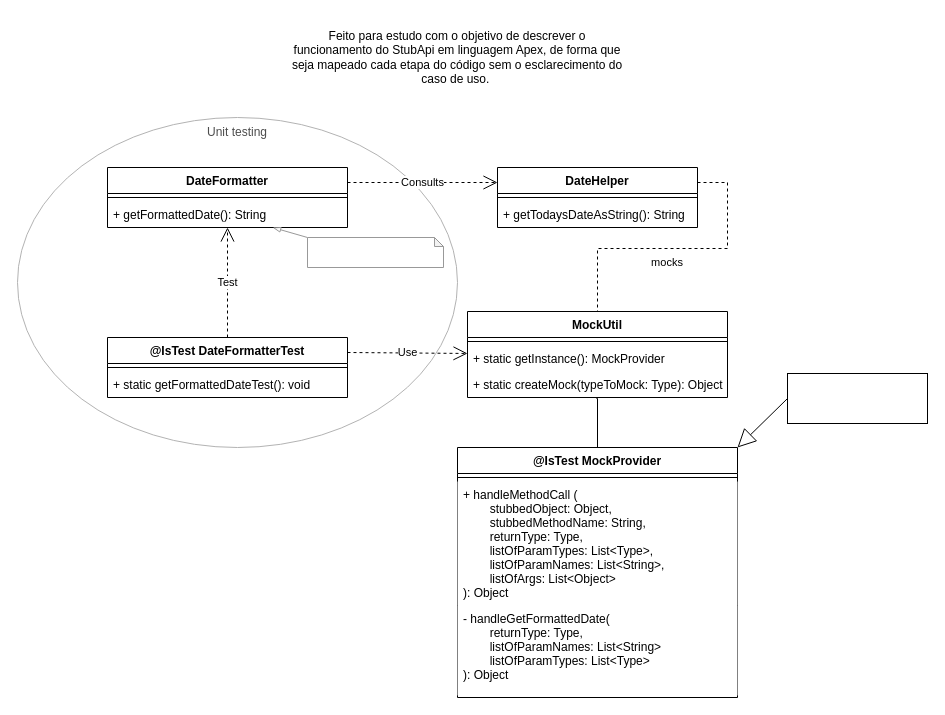
Image size: 945x715. Some labels were removed from this diagram. The shapes that lost their labels are listed below. From the top down, each one's centre as x and y in pixels, then its label:
[375,252]: 'Today\'s date is' helper.getTodaysDate()
[857,398]: «interface» System.StubProvider
